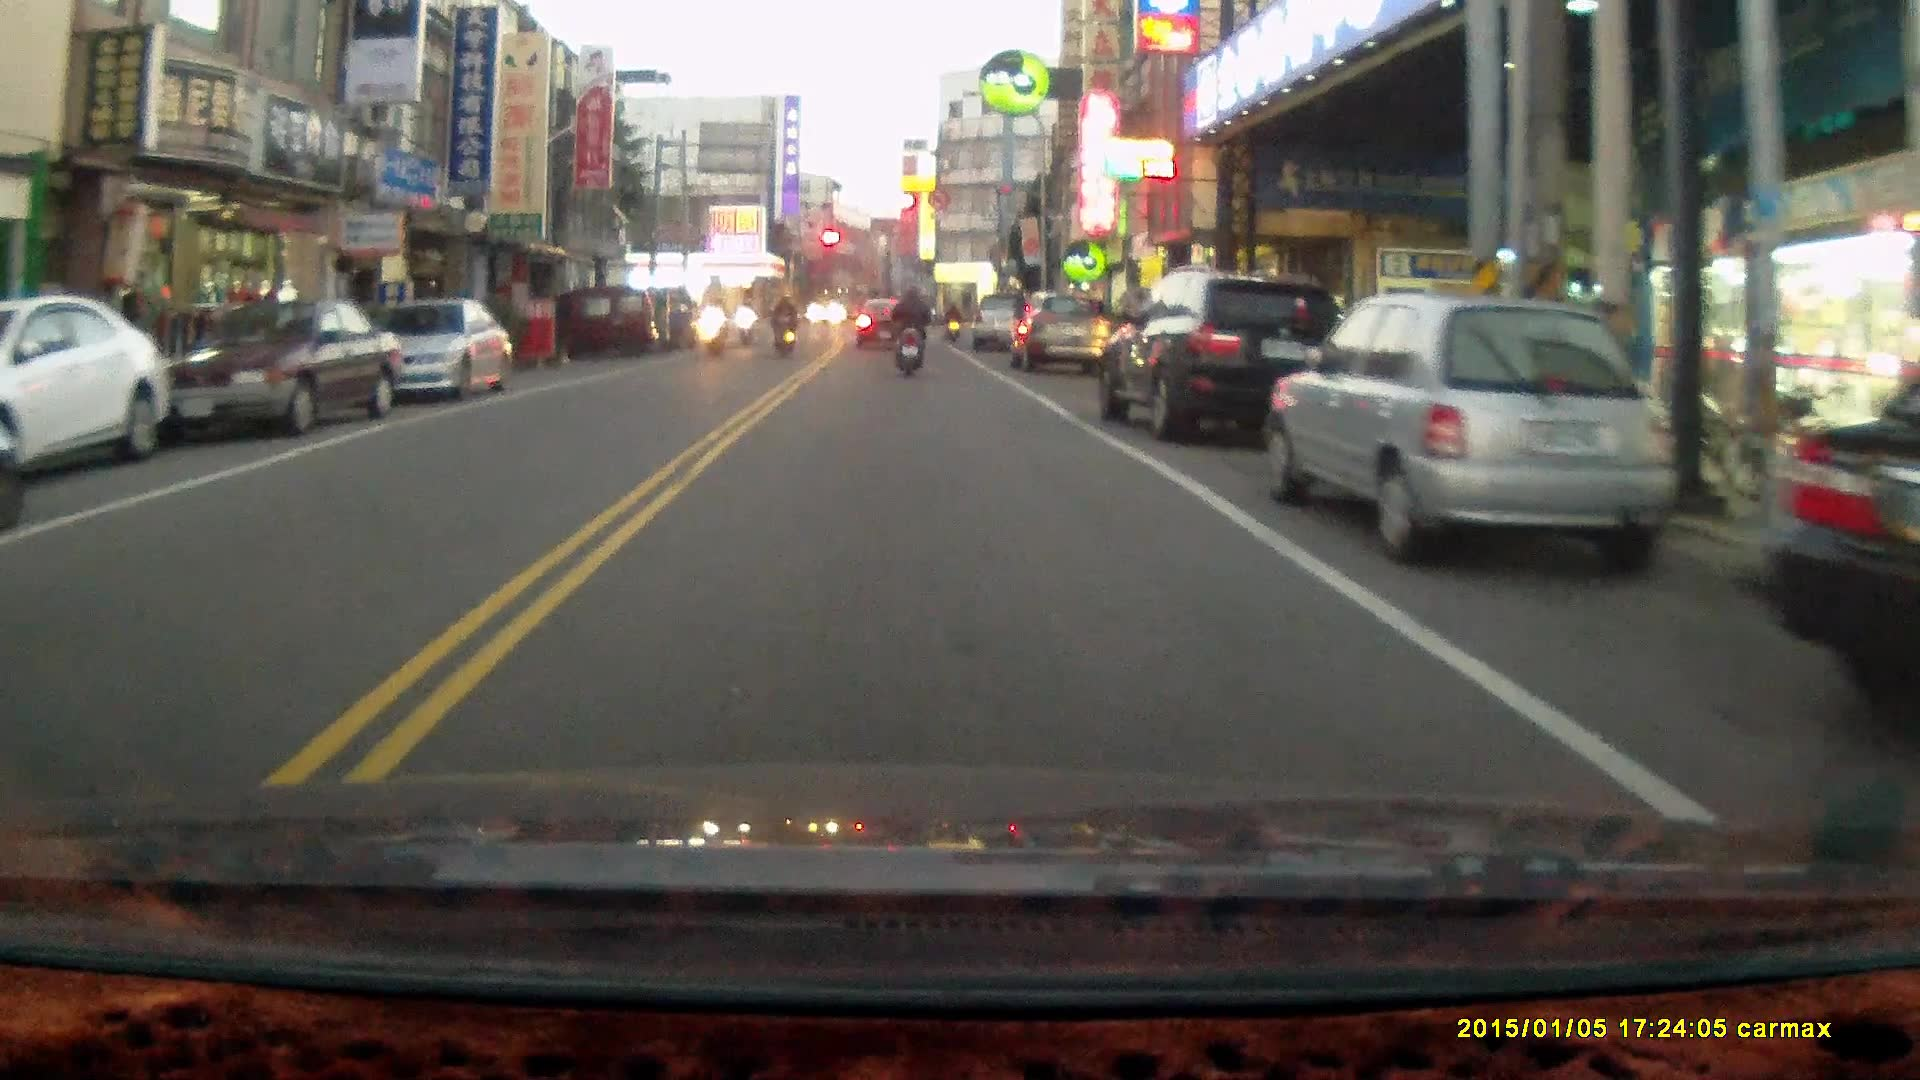rider: (889, 283, 930, 375), (700, 293, 729, 358), (769, 290, 797, 352), (734, 293, 758, 349), (940, 298, 962, 342)
vehicle: (1259, 294, 1689, 570), (1762, 379, 1920, 706), (1094, 267, 1351, 448), (133, 295, 402, 437), (1, 293, 176, 492), (361, 297, 515, 405), (1016, 292, 1118, 376), (575, 287, 662, 356), (971, 292, 1037, 353)
